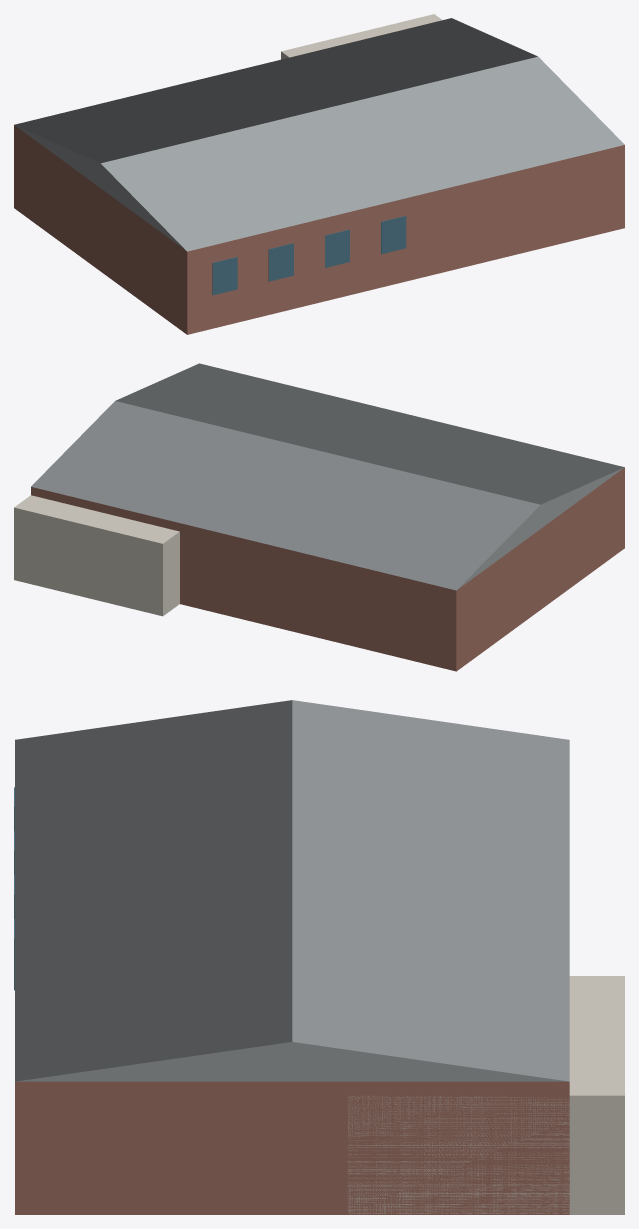
The picture shows the model from 3 angles, top to bottom: view 1: azimuth 30°, elevation 25°; view 2: azimuth 150°, elevation 25°; view 3: azimuth 270°, elevation 25°; orthographic projection. The views are drawn at different scales.
Parts seen in each view (by area): view 1: worldgen; view 2: worldgen; view 3: worldgen.
Boxes of the visible parts, left/top/right/bottom form: worldgen: left=14, top=14, right=624, bottom=334; worldgen: left=14, top=363, right=624, bottom=671; worldgen: left=14, top=700, right=624, bottom=1214.
Bounding box in the file's own units: 70 × 16.53 × 52.88.
